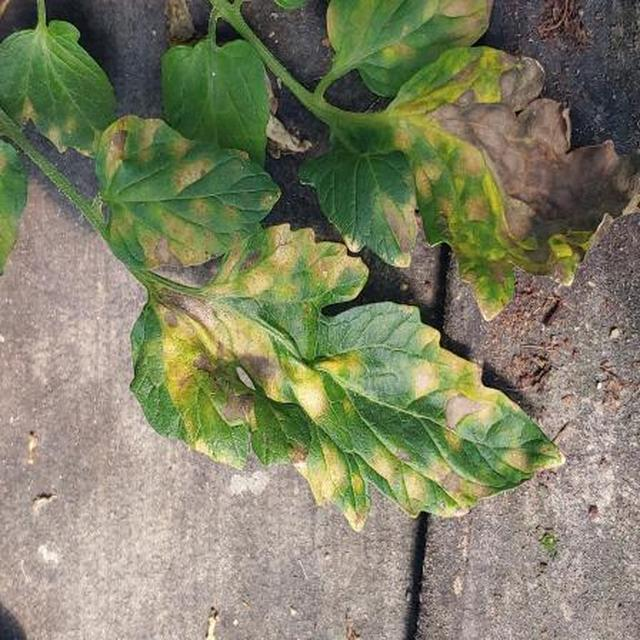Leaf Mold: (86, 68, 640, 538)
